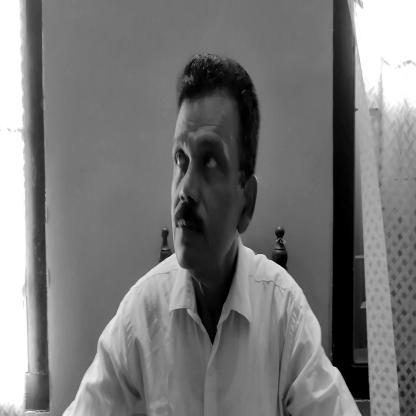Distracted: (168, 63, 260, 280)
